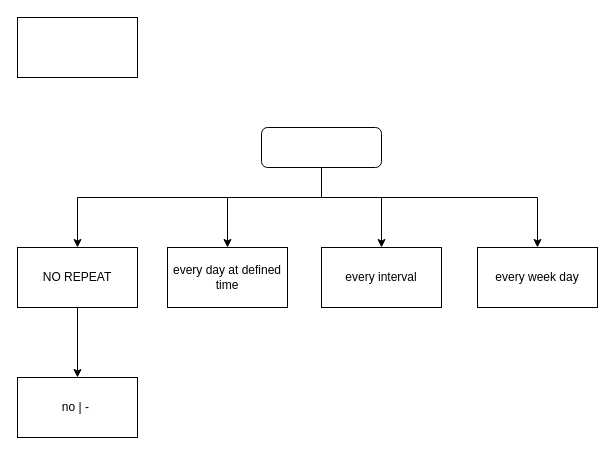
This 615x455 diagram has some shape labels left out. Each missing label, with the centre of its shape:
CASES: (321,147)
Repeat time parser: (77,47)
